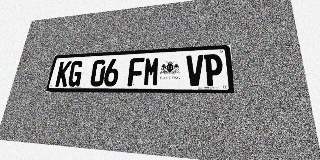0: (89, 59, 107, 86)
6: (103, 59, 120, 86)
F: (127, 57, 145, 86)
G: (67, 60, 84, 87)
K: (55, 61, 72, 87)
M: (143, 57, 160, 86)
P: (204, 54, 223, 86)
V: (186, 55, 204, 86)
